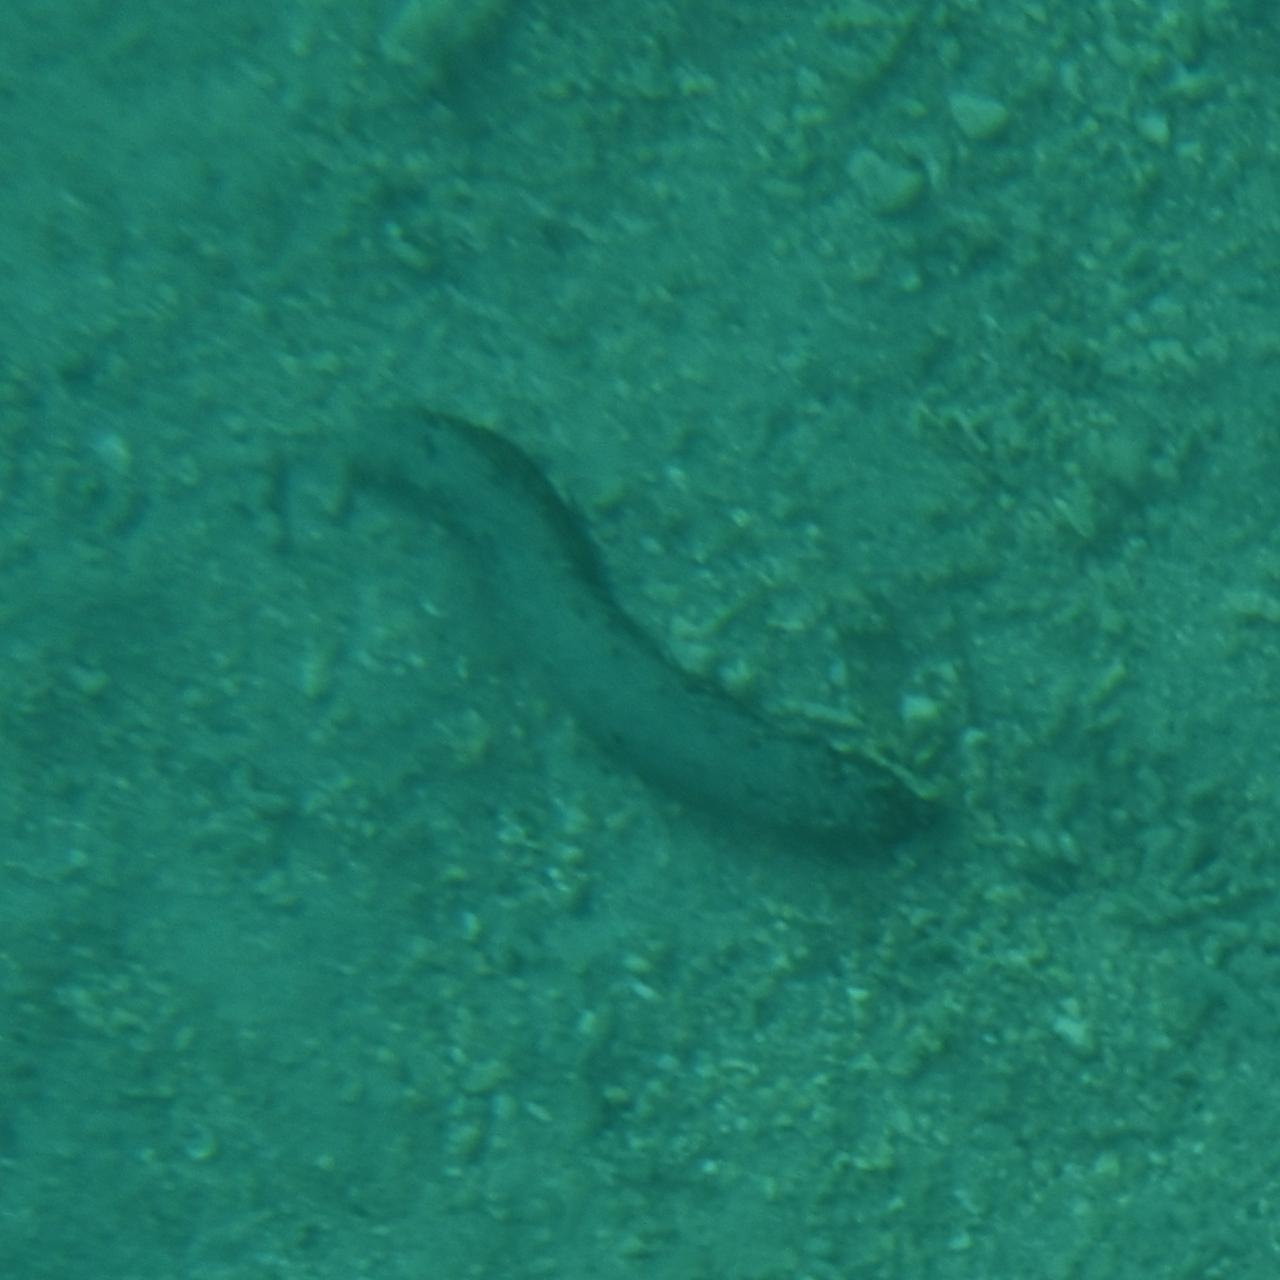Holothuria tubulosa: (340, 411, 940, 869)
